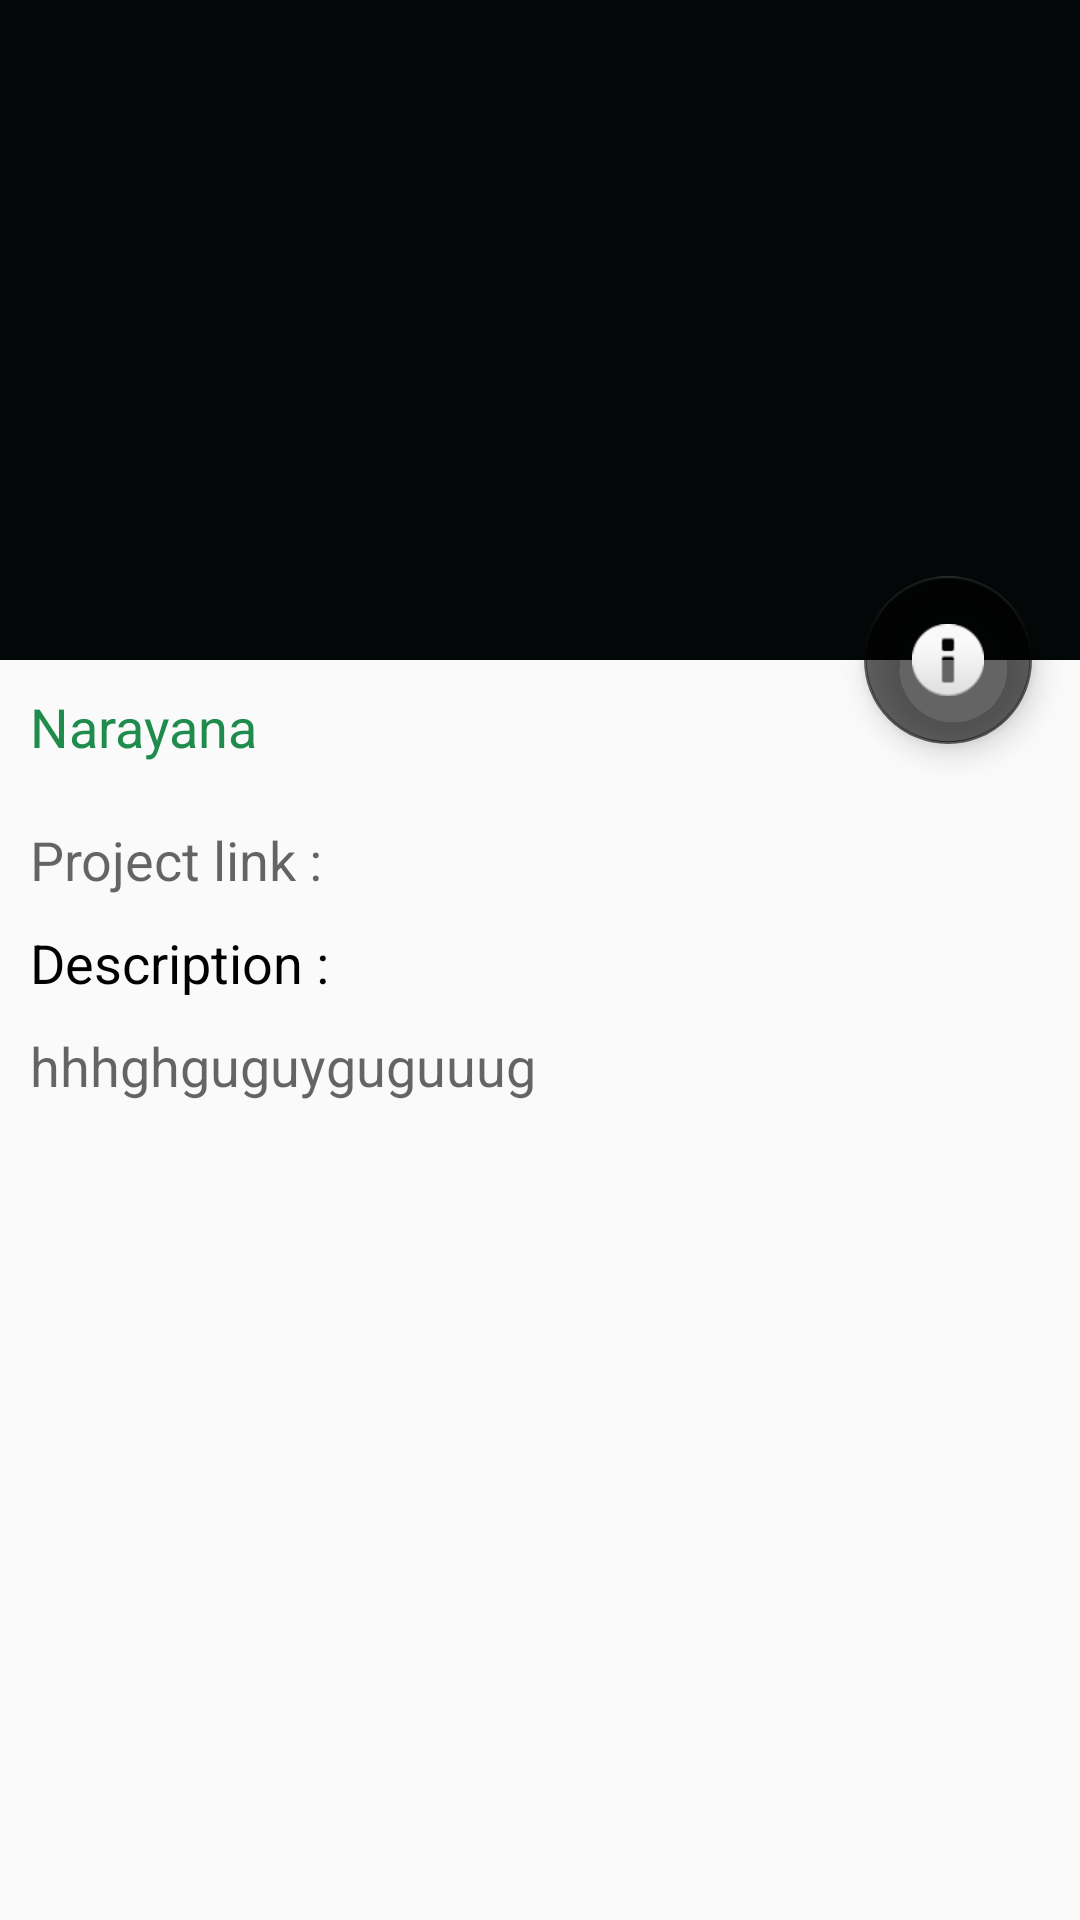

Point at icon controls on the screen. Image size 1080*1920, points as [x,y].
info: [948,660]
